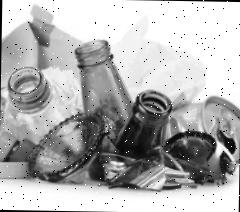glass: (70, 36, 140, 150), (22, 112, 126, 187), (111, 89, 172, 168)
